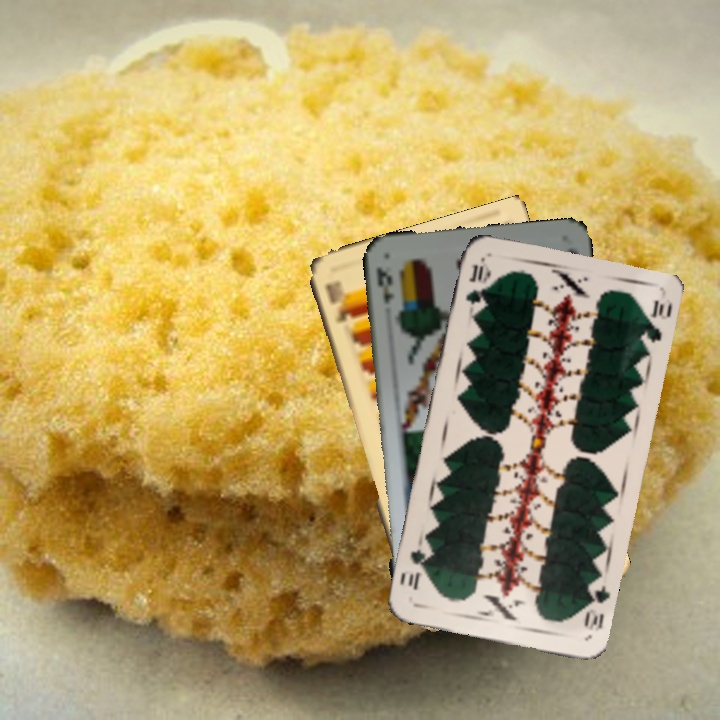E10: (321, 276, 356, 325)
EK: (372, 263, 396, 306)
G10: (580, 577, 612, 634), (461, 257, 492, 307)
